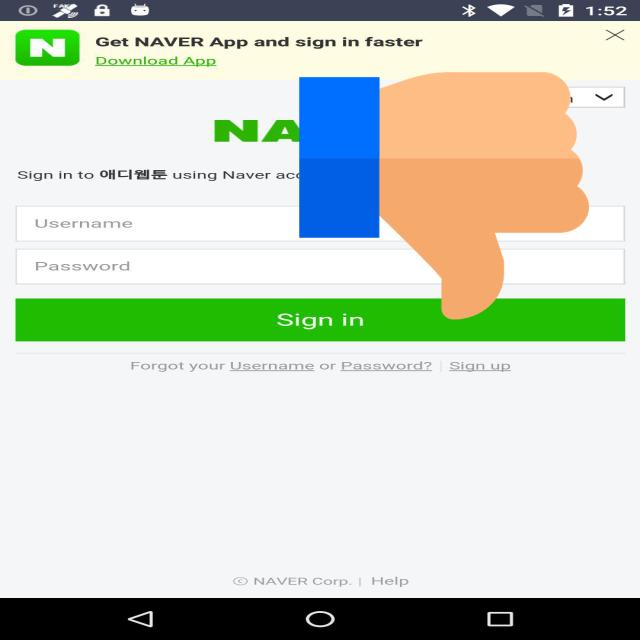obstruction: (299, 66, 589, 326)
